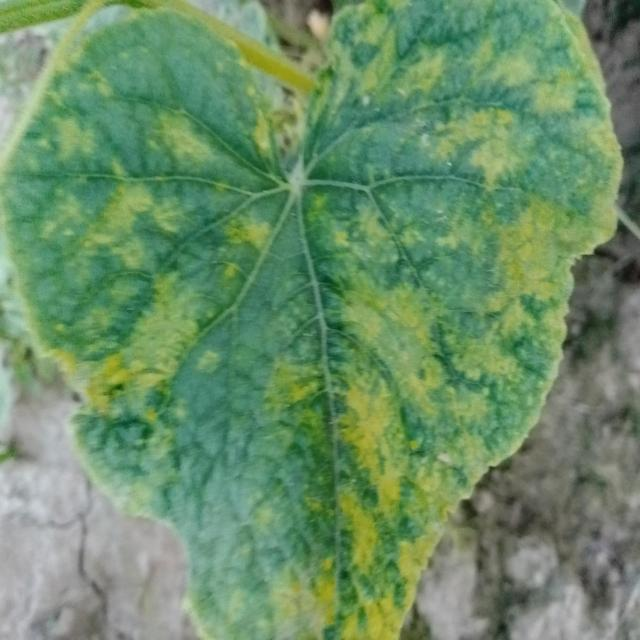cucumber_downy: (34, 9, 627, 640)
